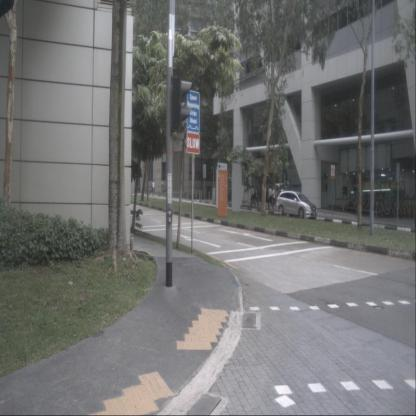human-pedestrian-adult: (272, 186, 278, 209), (268, 186, 273, 209), (251, 185, 256, 207)
vehicle-car: (275, 190, 318, 219)
